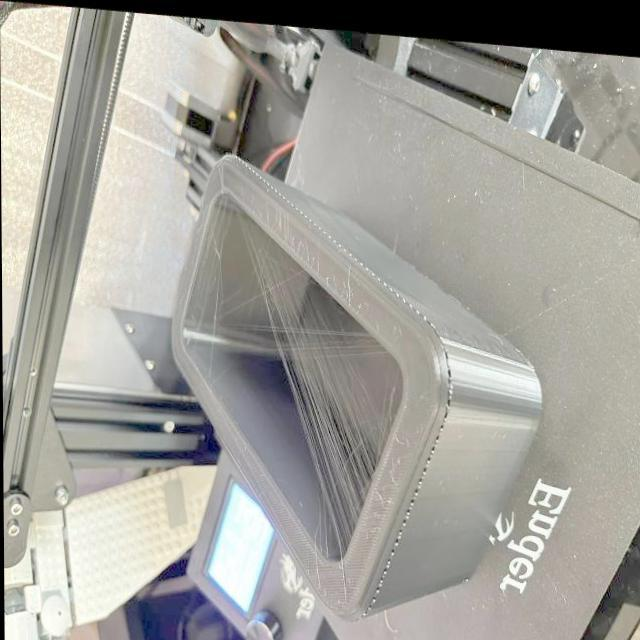stringing: (234, 223, 385, 538)
